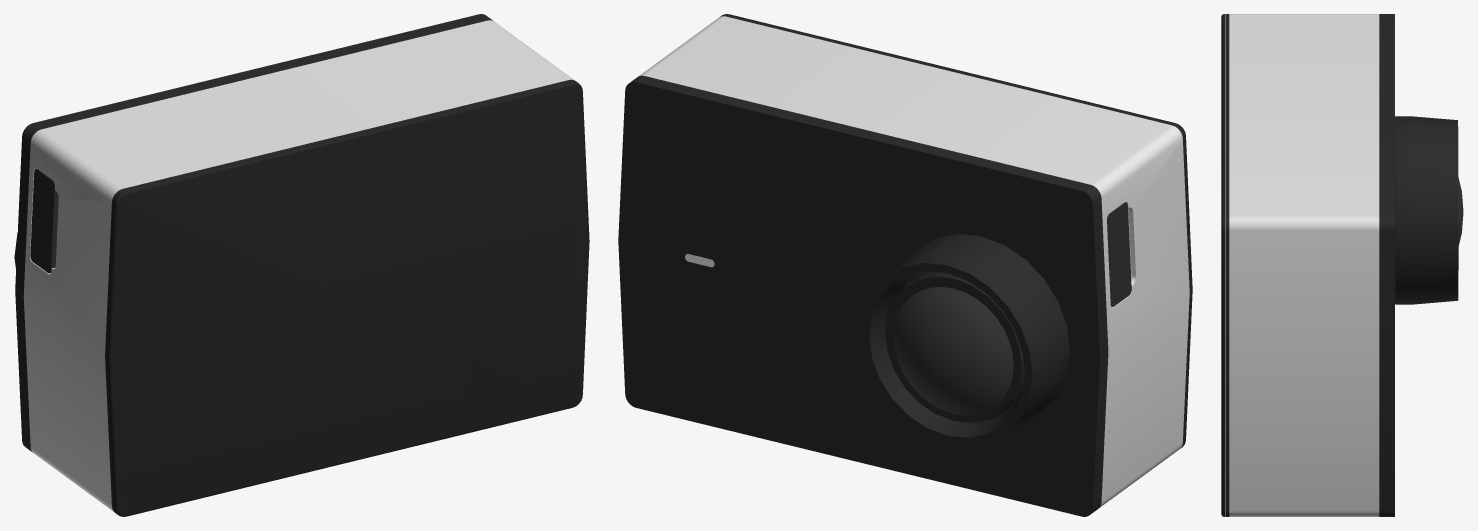
3 renders of one model, left to right at view 1: azimuth 30°, elevation 25°; view 2: azimuth 150°, elevation 25°; view 3: azimuth 270°, elevation 25°, orthographic. The views are drawn at different scales.
Visible parts, largest first — view 1: back glass_Material #2_0, mainbody_mat blcack_0, front_Material #37_0, usb cap holder, back_Material #37_0; view 2: front_Material #37_0, mainbody_mat blcack_0, lens001 poly_Material #37_0, Sphere001, c, back_Material #37_0, usb cap holder, back glass_Material #2_0; view 3: mainbody_mat blcack_0, lens001 poly_Material #37_0, front_Material #37_0, back_Material #37_0, back glass_Material #2_0.
Part boxes in pixels (<box>): back glass_Material #2_0: <box>107,81,589,516</box>; mainbody_mat blcack_0: <box>23,20,574,511</box>; front_Material #37_0: <box>15,14,492,452</box>; usb cap holder: <box>30,169,58,273</box>; back_Material #37_0: <box>105,79,576,513</box>; front_Material #37_0: <box>618,75,1108,516</box>; mainbody_mat blcack_0: <box>639,16,1189,507</box>; lens001 poly_Material #37_0: <box>862,234,1069,445</box>; Sphere001: <box>885,272,1024,423</box>; c: <box>892,225,1077,432</box>; back_Material #37_0: <box>720,14,1191,448</box>; usb cap holder: <box>1107,202,1131,306</box>; back glass_Material #2_0: <box>723,14,1192,444</box>; mainbody_mat blcack_0: <box>1229,14,1379,516</box>; lens001 poly_Material #37_0: <box>1395,116,1458,304</box>; front_Material #37_0: <box>1379,14,1394,516</box>; back_Material #37_0: <box>1225,14,1229,516</box>; back glass_Material #2_0: <box>1221,14,1225,516</box>.
Size of the model in its own units: 6.5 by 3.07 by 4.23.
8 materials, 1 textured.
